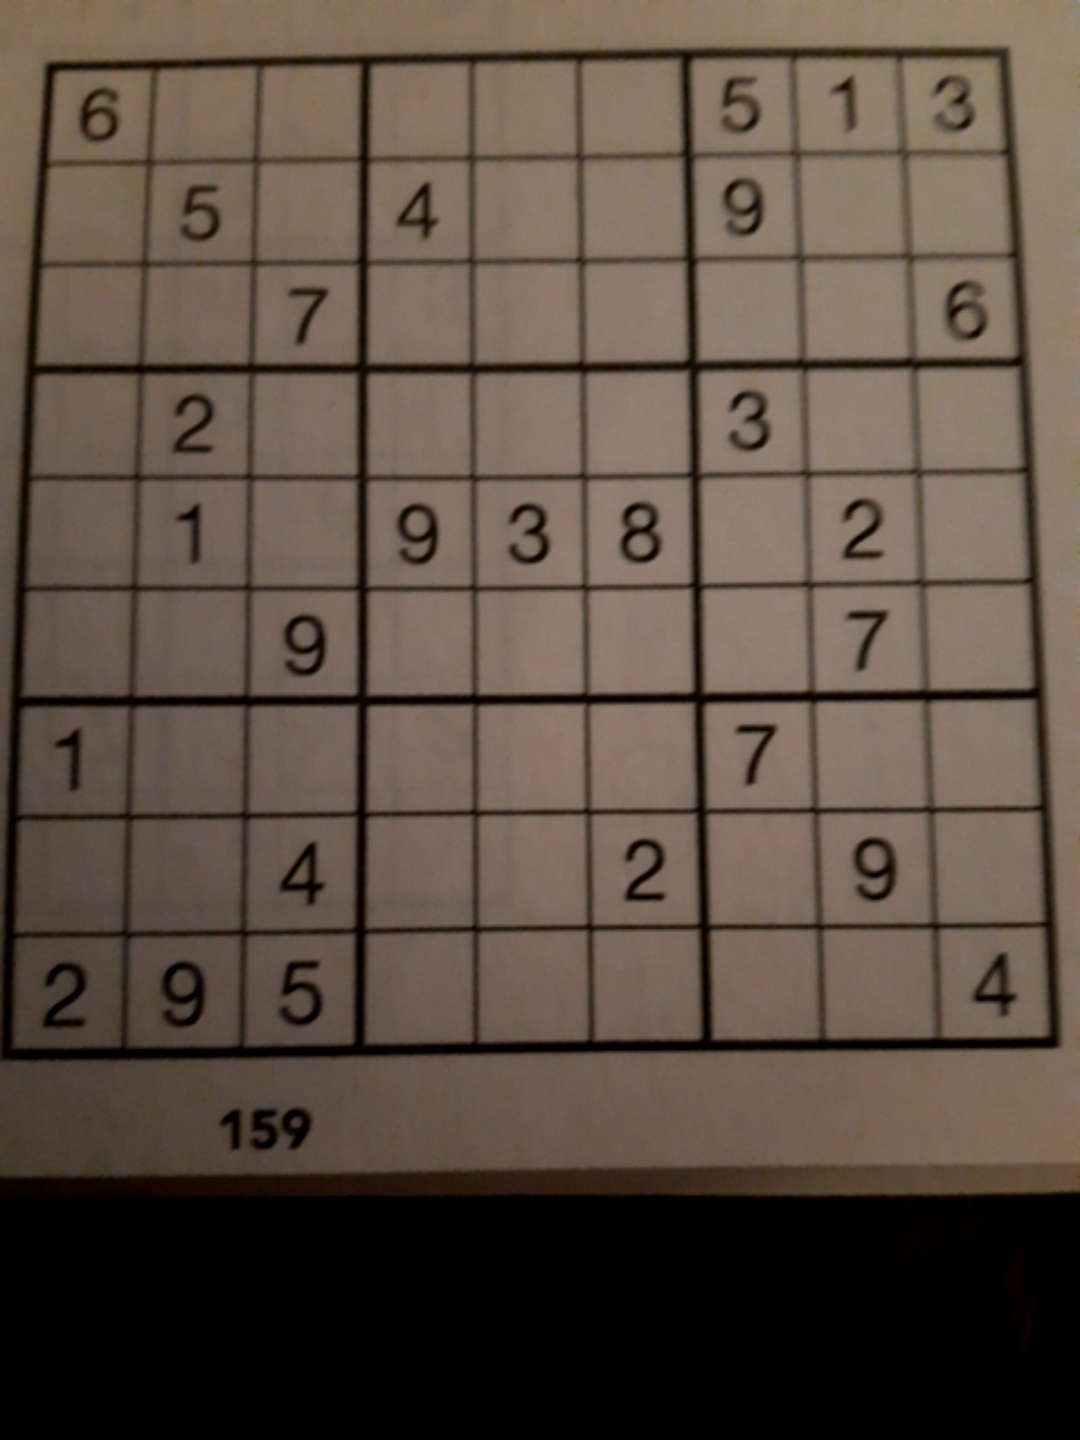sudoku: (6, 45, 1061, 1059)
